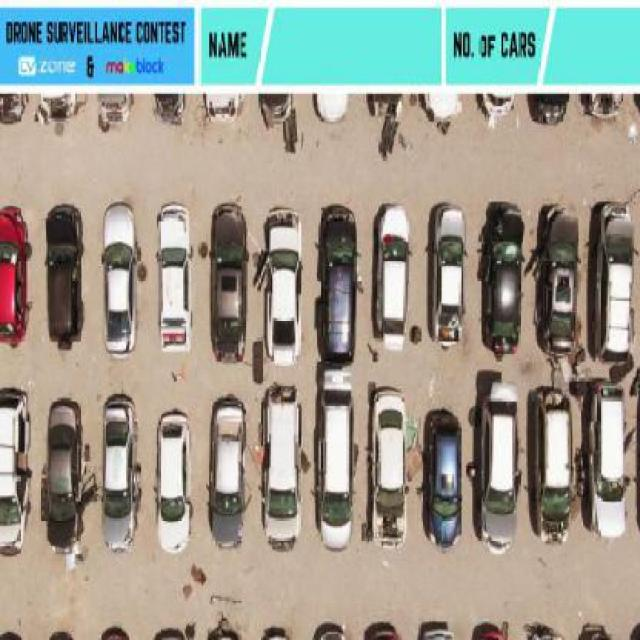car: (314, 362, 359, 550), (476, 377, 522, 557), (257, 382, 305, 545), (365, 381, 409, 550), (203, 393, 250, 549), (596, 200, 640, 366), (589, 381, 633, 547), (41, 394, 85, 557), (100, 392, 144, 554), (534, 379, 576, 547), (318, 204, 362, 362), (206, 200, 248, 364), (155, 204, 198, 362), (100, 202, 142, 362), (536, 204, 579, 359), (43, 203, 87, 350), (481, 204, 523, 358), (369, 204, 410, 356), (154, 411, 198, 548), (266, 208, 302, 366), (422, 408, 462, 548), (428, 202, 466, 348), (0, 204, 35, 343), (0, 385, 28, 557), (99, 96, 137, 126), (358, 618, 405, 640), (465, 618, 510, 640), (205, 615, 242, 640), (0, 92, 26, 126), (571, 620, 612, 640), (311, 620, 350, 640), (415, 621, 456, 640), (525, 623, 566, 640), (255, 624, 292, 640), (148, 626, 190, 640), (99, 624, 135, 640), (623, 618, 640, 640), (44, 629, 78, 640), (0, 632, 24, 640)
